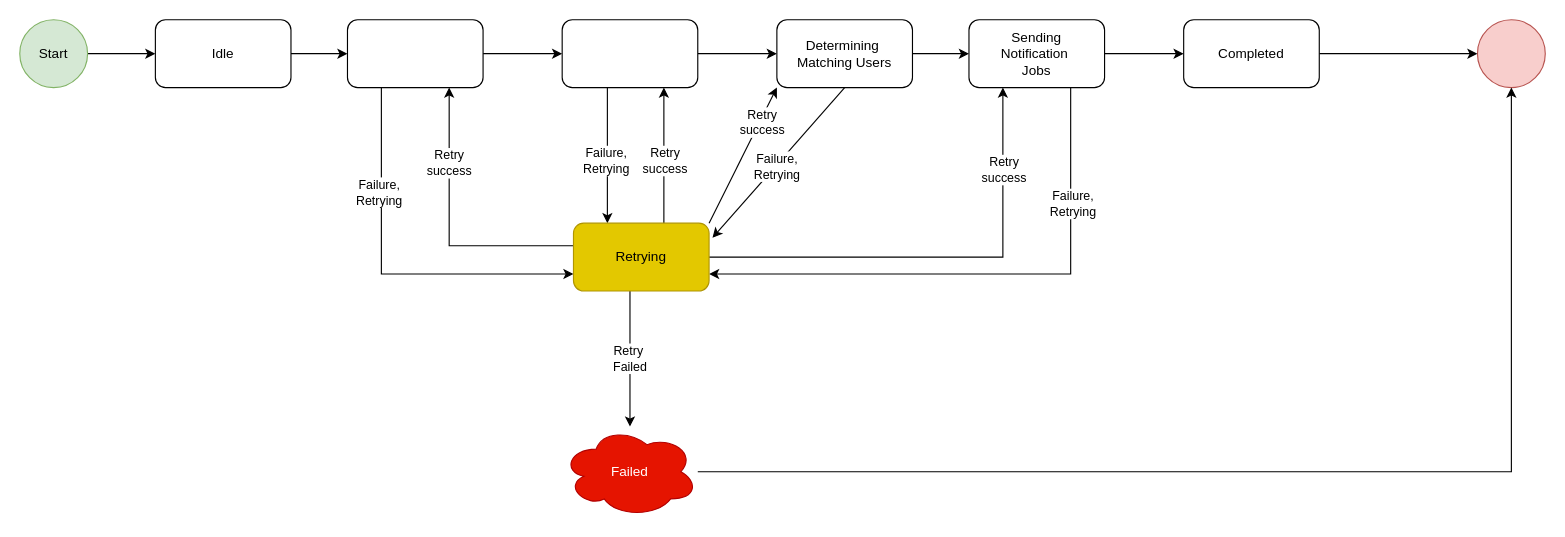
The diagram is 1565 pixels wide and 537 high, and some of its shapes have lost their labels. The shapes that lost their labels are listed below. From the top down, each one's centre as x and y in pixels, then its label:
the point at 414,53: Consuming Event
the point at 629,53: Reading Subscription Cache
the point at 1510,53: End
